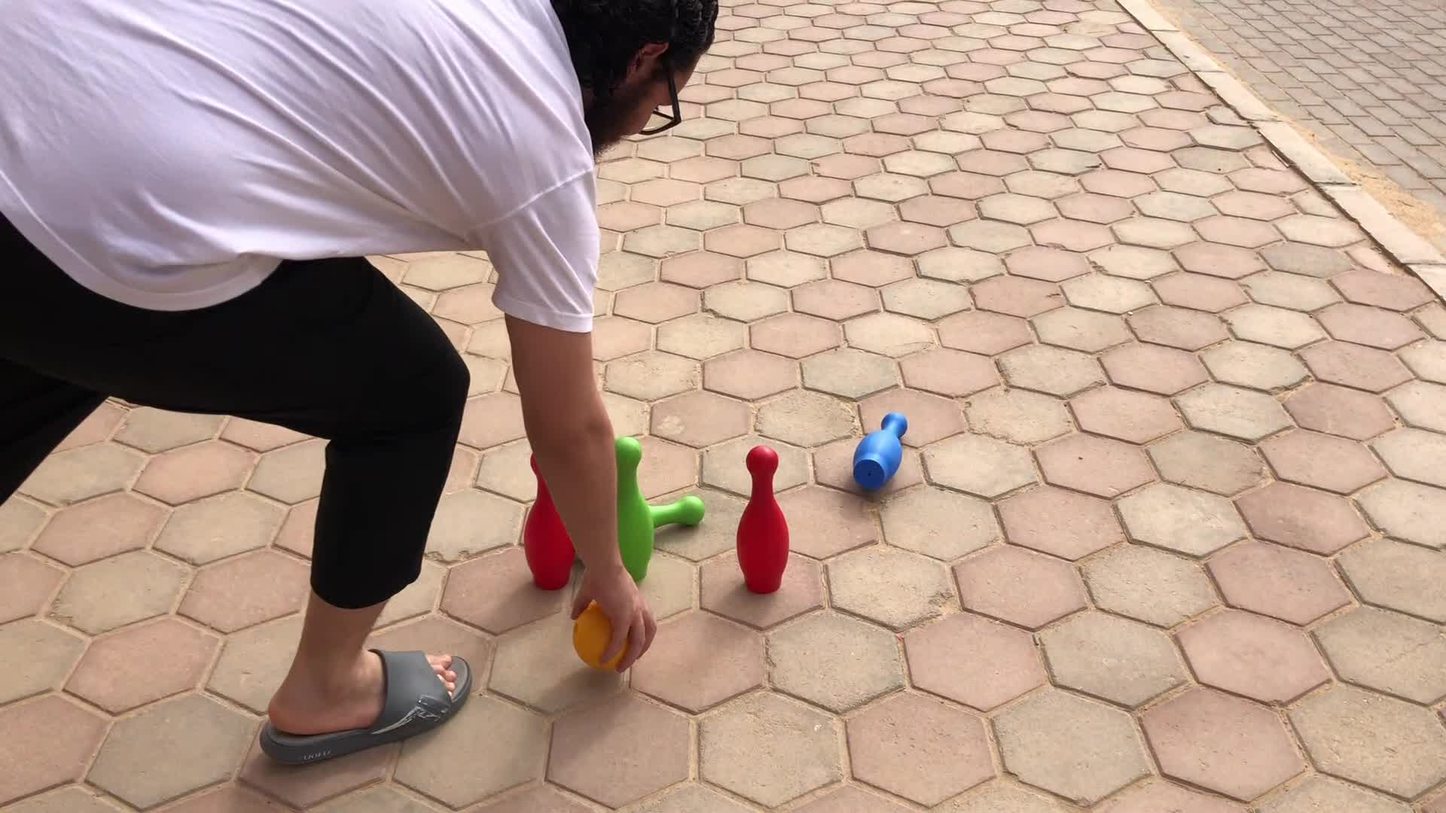bowling-pin: (737, 446, 789, 593), (524, 461, 575, 590), (616, 437, 654, 583), (854, 413, 908, 495), (648, 495, 706, 528)
